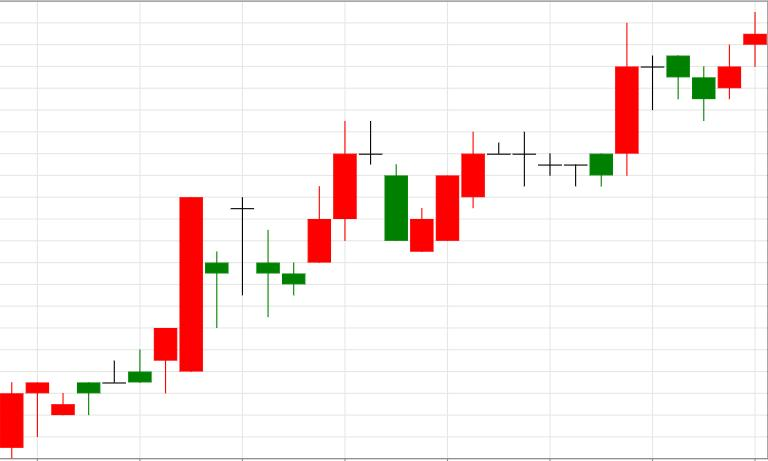evening_star_fall: (282, 120, 408, 296)
